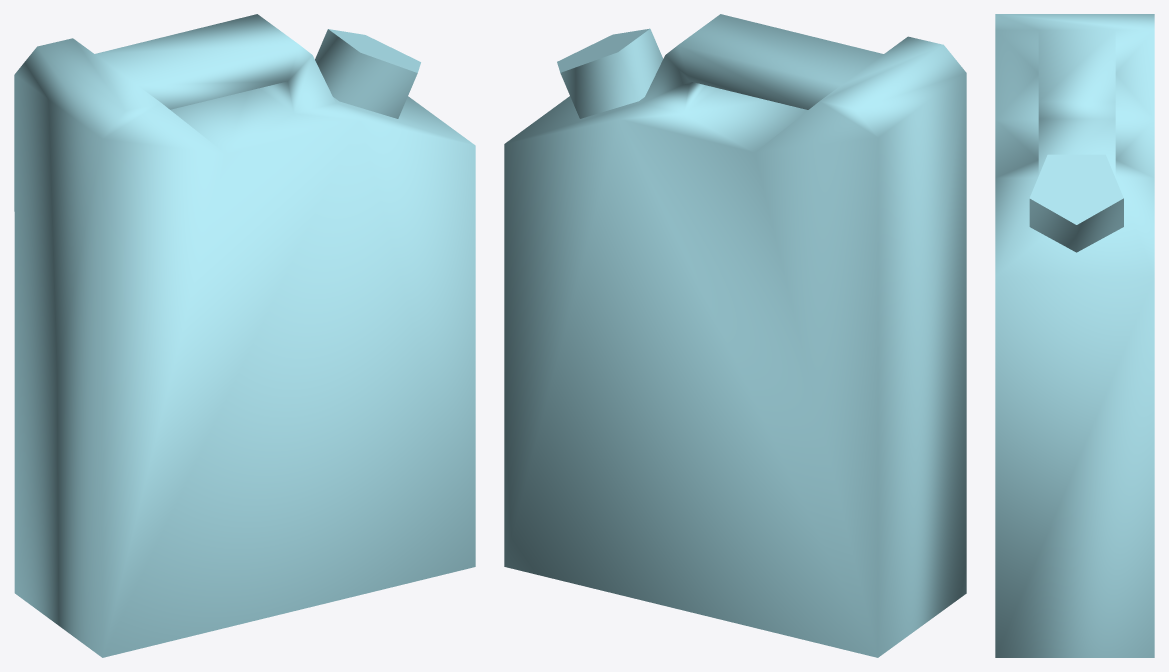
The model's file is gascan1.fbx.
3 renders of one model, left to right at view 1: azimuth 30°, elevation 25°; view 2: azimuth 150°, elevation 25°; view 3: azimuth 270°, elevation 25°, orthographic. The views are drawn at different scales.
Visible parts, largest first — view 1: gascan; view 2: gascan; view 3: gascan.
Boxes of the visible parts, x1,y1,x2,y2 form: gascan: (14,14,475,657); gascan: (504,14,966,657); gascan: (995,14,1154,657).
Bounding box in the file's own units: 40.61 × 56.31 × 16.62.
